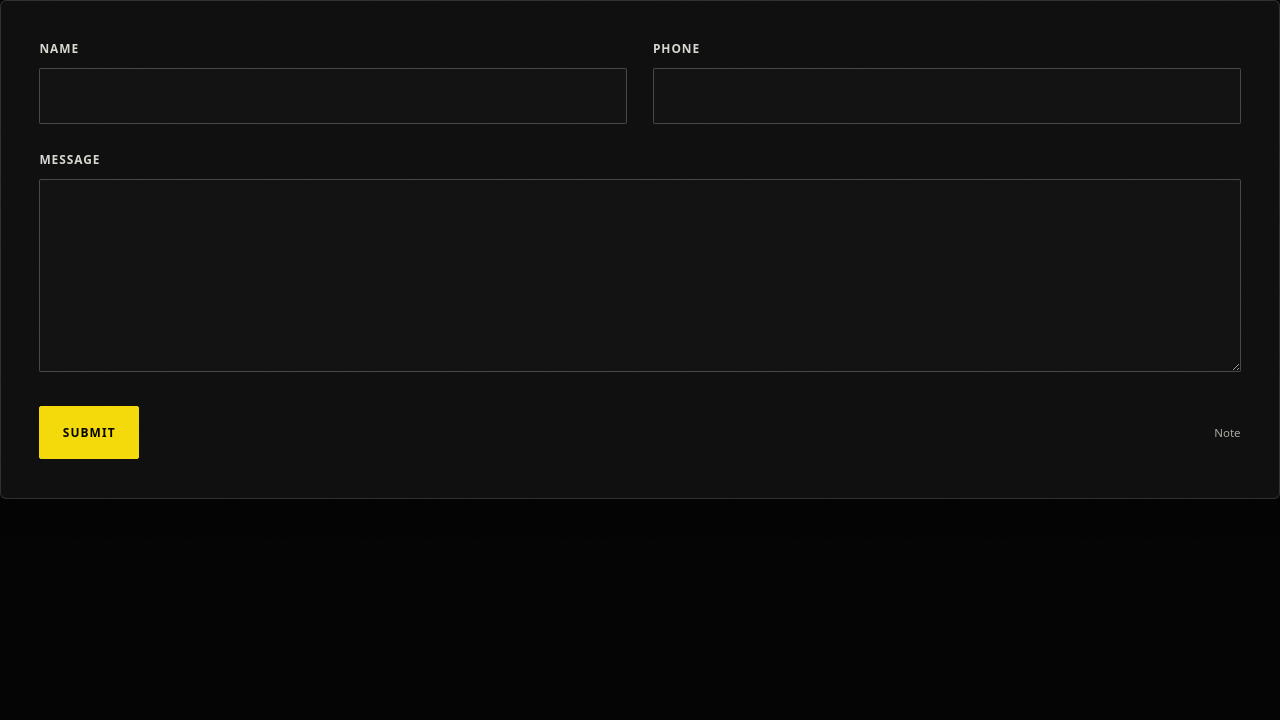
Scenario: ContactForm › validates required fields
The width and height of the screenshot is (1280, 720).
Click the button "Submit" at [89, 433], box [39,406,139,460]
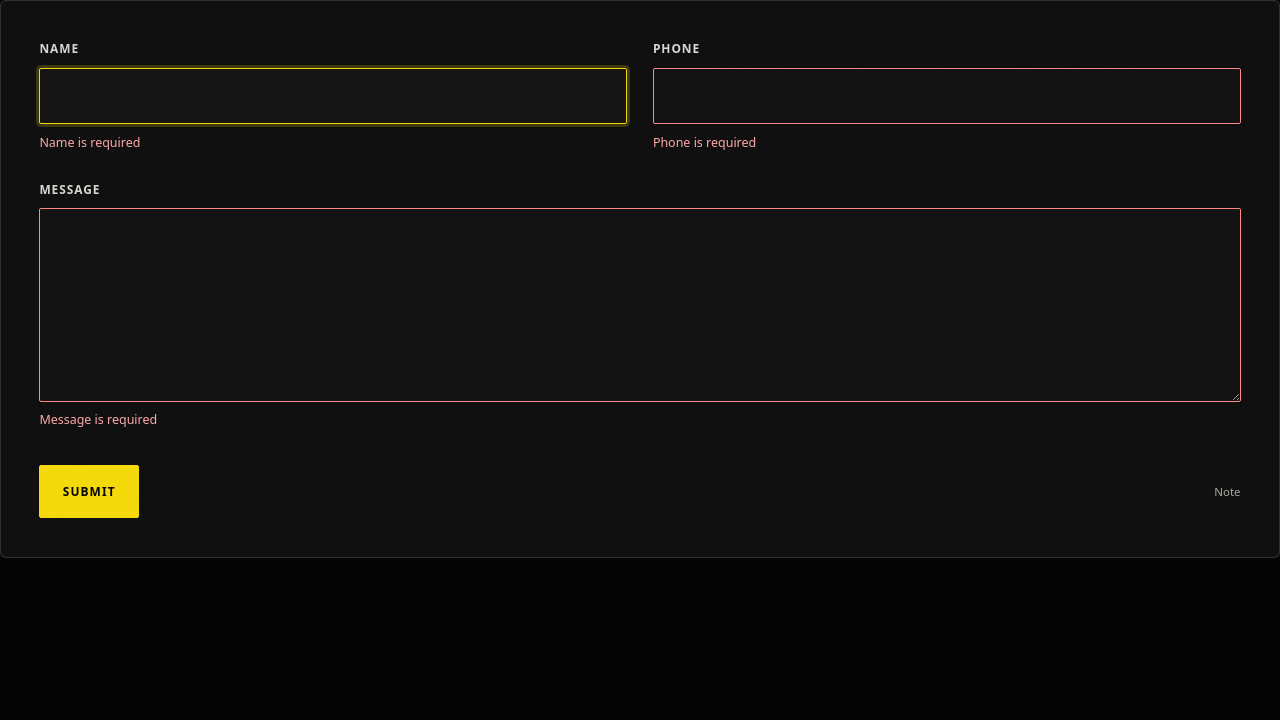
Now the text "Name is required" is shown, box [39,134,140,151]
Now the text "Phone is required" is shown, box [653,134,756,151]
Now the text "Message is required" is shown, box [39,411,157,428]
